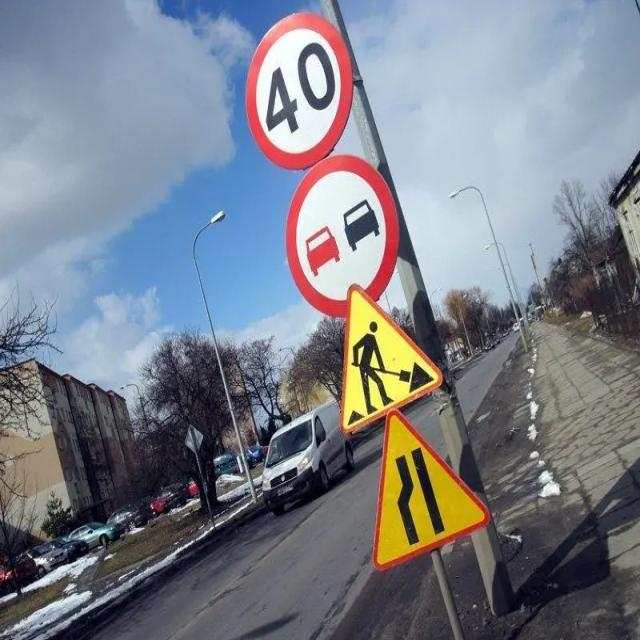Speed Limit -40-: (262, 42, 336, 134)
